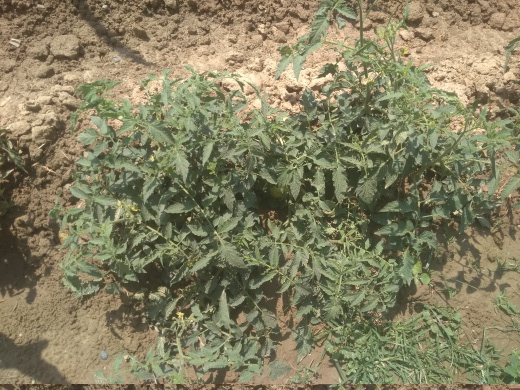tomato plant: (89, 89, 481, 297)
